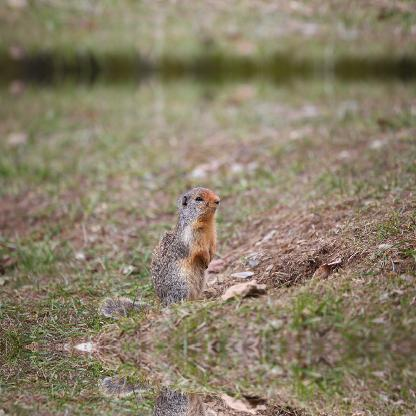Squirrel: (99, 182, 221, 320), (99, 372, 222, 415)
